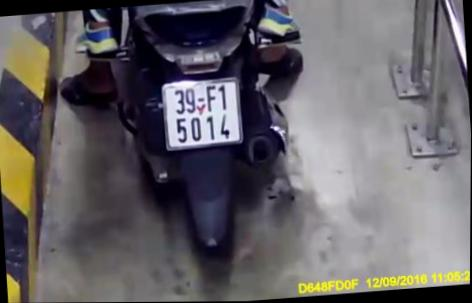LP: (159, 75, 244, 152)
